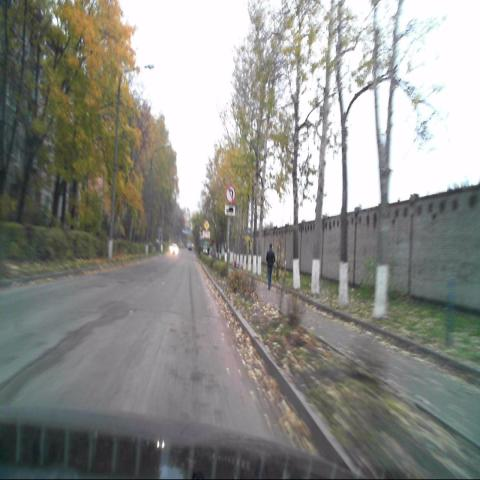3_18_2: (226, 185, 236, 204)
8_4_1: (224, 205, 236, 216)
